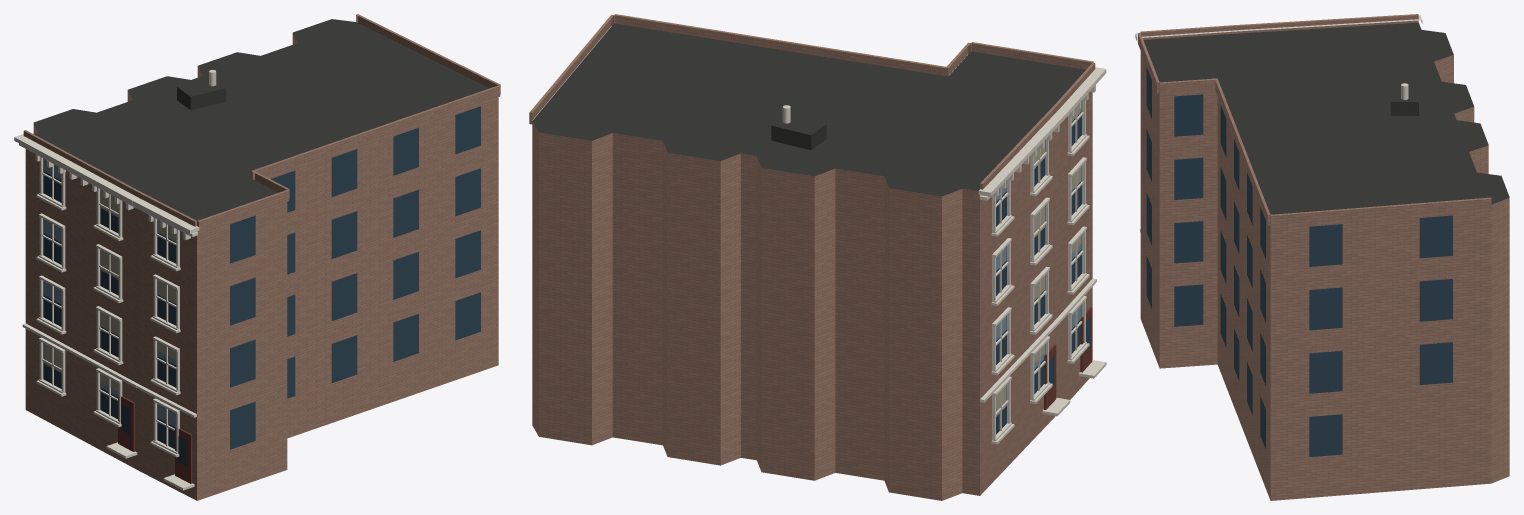
3 renders of one model, left to right at view 1: azimuth 30°, elevation 25°; view 2: azimuth 150°, elevation 25°; view 3: azimuth 270°, elevation 25°, orthographic. The views are drawn at different scales.
Visible parts, largest first — view 1: Footprint 0 / surface 2, Footprint 0 / surface 1, Inset glazing, Cornices and window frames, Facade bay volumes, Interior blind variation, Storefronts and doors, Sky reflection panels; view 2: Footprint 0 / surface 2, Footprint 0 / surface 1, Cornices and window frames, Facade bay volumes, Inset glazing, Interior blind variation, Storefronts and doors, Inferred rooftop service enclosure / surface 6; view 3: Footprint 0 / surface 2, Footprint 0 / surface 1, Inset glazing, Facade bay volumes, Cornices and window frames.
Part boxes in pixels (box(x1,y1,x2,y2)): Footprint 0 / surface 2: box(25, 33, 498, 500); Footprint 0 / surface 1: box(33, 19, 489, 220); Inset glazing: box(43, 106, 480, 466); Cornices and window frames: box(14, 134, 199, 490); Facade bay volumes: box(23, 14, 500, 231); Interior blind variation: box(44, 189, 176, 391); Storefronts and doors: box(118, 395, 192, 483); Sky reflection panels: box(44, 159, 176, 426); Footprint 0 / surface 2: box(532, 92, 1092, 500); Footprint 0 / surface 1: box(532, 23, 1085, 196); Cornices and window frames: box(978, 67, 1106, 444); Facade bay volumes: box(529, 14, 1095, 189); Inset glazing: box(996, 100, 1090, 434); Interior blind variation: box(996, 101, 1081, 416); Storefronts and doors: box(1044, 306, 1092, 409); Inferred rooftop service enclosure / surface 6: box(771, 125, 811, 150); Footprint 0 / surface 2: box(1140, 51, 1509, 500); Footprint 0 / surface 1: box(1143, 22, 1509, 214); Inset glazing: box(1146, 67, 1452, 457); Facade bay volumes: box(1138, 14, 1491, 226); Cornices and window frames: box(1135, 15, 1422, 232).
Bounding box in the file's own units: 20.83 × 14.44 × 16.
